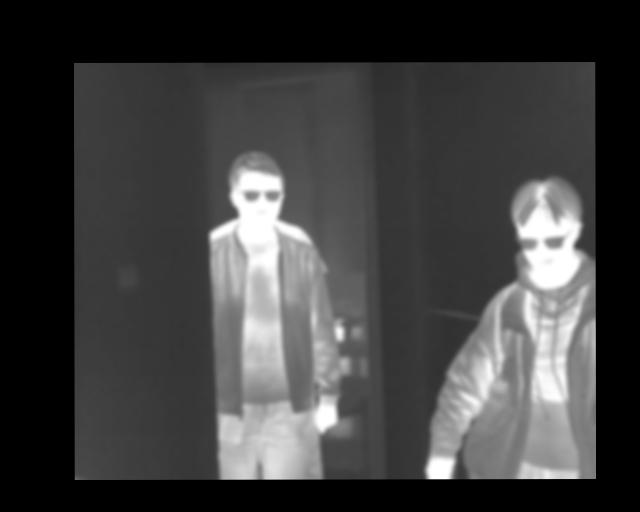face: (511, 175, 584, 274), (228, 153, 285, 233)
